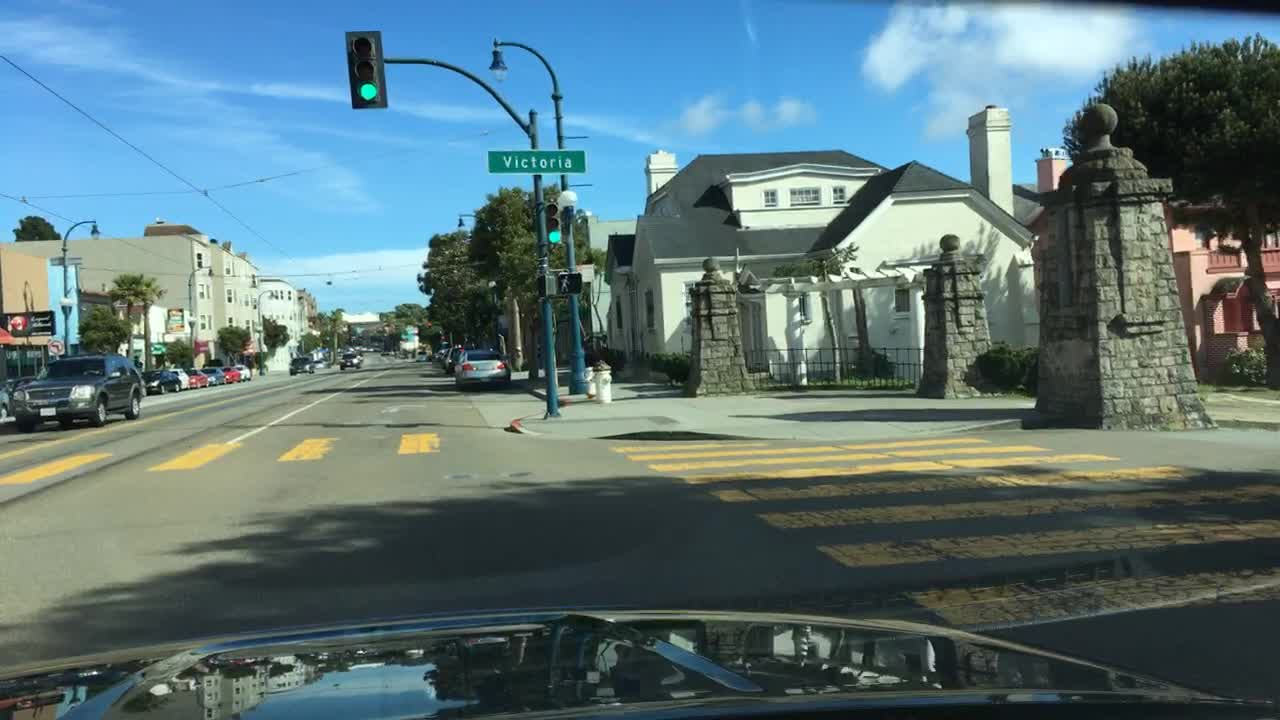car: (8, 353, 143, 426), (452, 350, 510, 385), (1, 376, 38, 416), (144, 369, 179, 391), (289, 355, 315, 376), (205, 366, 229, 386), (188, 366, 207, 389), (341, 353, 361, 370), (446, 348, 461, 369), (174, 366, 189, 386), (234, 363, 252, 378), (222, 368, 242, 381), (436, 349, 447, 364), (315, 358, 328, 369), (415, 351, 427, 360)
traffic light: (346, 31, 388, 111), (544, 202, 561, 244), (556, 270, 581, 296), (536, 273, 556, 300)
traffic sign: (486, 150, 586, 175), (47, 336, 62, 354)
